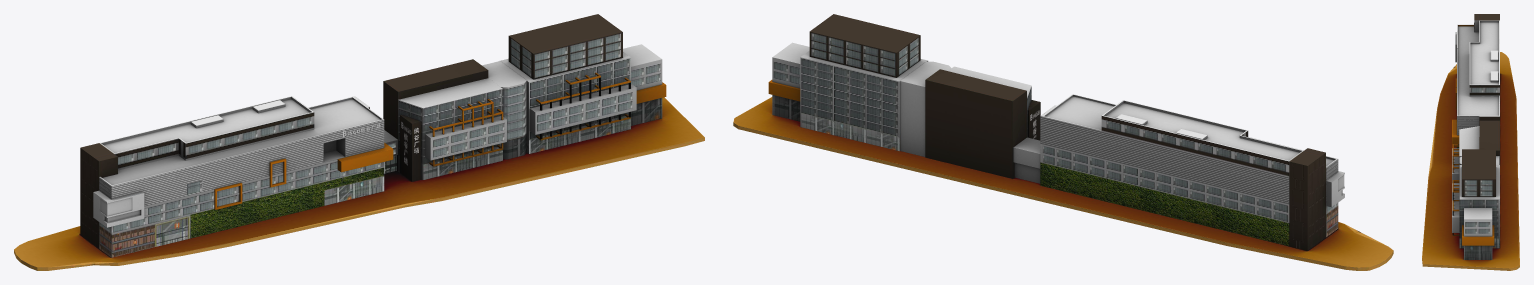
Rendered from bggc.gltf.
The picture shows the model from 3 angles, left to right: view 1: azimuth 30°, elevation 25°; view 2: azimuth 150°, elevation 25°; view 3: azimuth 270°, elevation 25°; orthographic projection. The views are drawn at different scales.
Parts seen in each view (by area): view 1: polySurface1 polySurface59, polySurface1 polySurface3, polySurface1 polySurface69, polySurface1 polySurface66, polySurface1 polySurface62, polySurface1 polySurface67, polySurface1 polySurface56, polySurface1 polySurface65, polySurface1 polySurface68, polySurface1 polySurface52, polySurface1 polySurface54, polySurface1 polySurface57 (+1 smaller); view 2: polySurface1 polySurface59, polySurface1 polySurface3, polySurface1 polySurface69, polySurface1 polySurface62, polySurface1 polySurface66, polySurface1 polySurface56, polySurface1 polySurface68, polySurface1 polySurface55, polySurface1 polySurface52, polySurface1 polySurface54, polySurface1 polySurface70, polySurface1 polySurface64; view 3: polySurface1 polySurface3, polySurface1 polySurface59, polySurface1 polySurface66, polySurface1 polySurface68, polySurface1 polySurface69, polySurface1 polySurface62, polySurface1 polySurface70, polySurface1 polySurface67, polySurface1 polySurface65, polySurface1 polySurface57, polySurface1 polySurface61, polySurface1 polySurface60.
Part boxes in pixels (x1,y1,x2,y2): polySurface1 polySurface59: (80,96,384,257); polySurface1 polySurface3: (14,97,704,270); polySurface1 polySurface69: (383,59,502,179); polySurface1 polySurface66: (508,14,622,79); polySurface1 polySurface62: (500,52,630,153); polySurface1 polySurface67: (530,84,636,134); polySurface1 polySurface56: (482,61,526,159); polySurface1 polySurface65: (425,116,506,160); polySurface1 polySurface68: (623,44,662,125); polySurface1 polySurface52: (93,190,144,227); polySurface1 polySurface54: (400,115,421,181); polySurface1 polySurface57: (337,142,393,172); polySurface1 polySurface59: (1040,94,1338,250); polySurface1 polySurface3: (733,97,1393,270); polySurface1 polySurface69: (925,66,1031,178); polySurface1 polySurface62: (800,50,928,151); polySurface1 polySurface66: (809,14,920,77); polySurface1 polySurface56: (900,61,951,156); polySurface1 polySurface68: (772,42,809,121); polySurface1 polySurface55: (1013,137,1040,168); polySurface1 polySurface52: (1326,171,1344,207); polySurface1 polySurface54: (1027,100,1040,140); polySurface1 polySurface70: (768,80,800,101); polySurface1 polySurface64: (1014,162,1040,183); polySurface1 polySurface3: (1422,52,1519,270); polySurface1 polySurface59: (1457,14,1499,148); polySurface1 polySurface66: (1462,149,1495,196); polySurface1 polySurface68: (1464,208,1492,259); polySurface1 polySurface69: (1459,120,1499,182); polySurface1 polySurface62: (1459,165,1499,248); polySurface1 polySurface70: (1462,225,1494,245); polySurface1 polySurface67: (1452,183,1459,232); polySurface1 polySurface65: (1452,148,1459,183); polySurface1 polySurface57: (1452,119,1459,144); polySurface1 polySurface61: (1490,71,1498,82); polySurface1 polySurface60: (1490,50,1498,61).
Size of the model in its own units: 23.47 by 3.48 by 4.46.
Materials: 1 (1 with a texture image).
